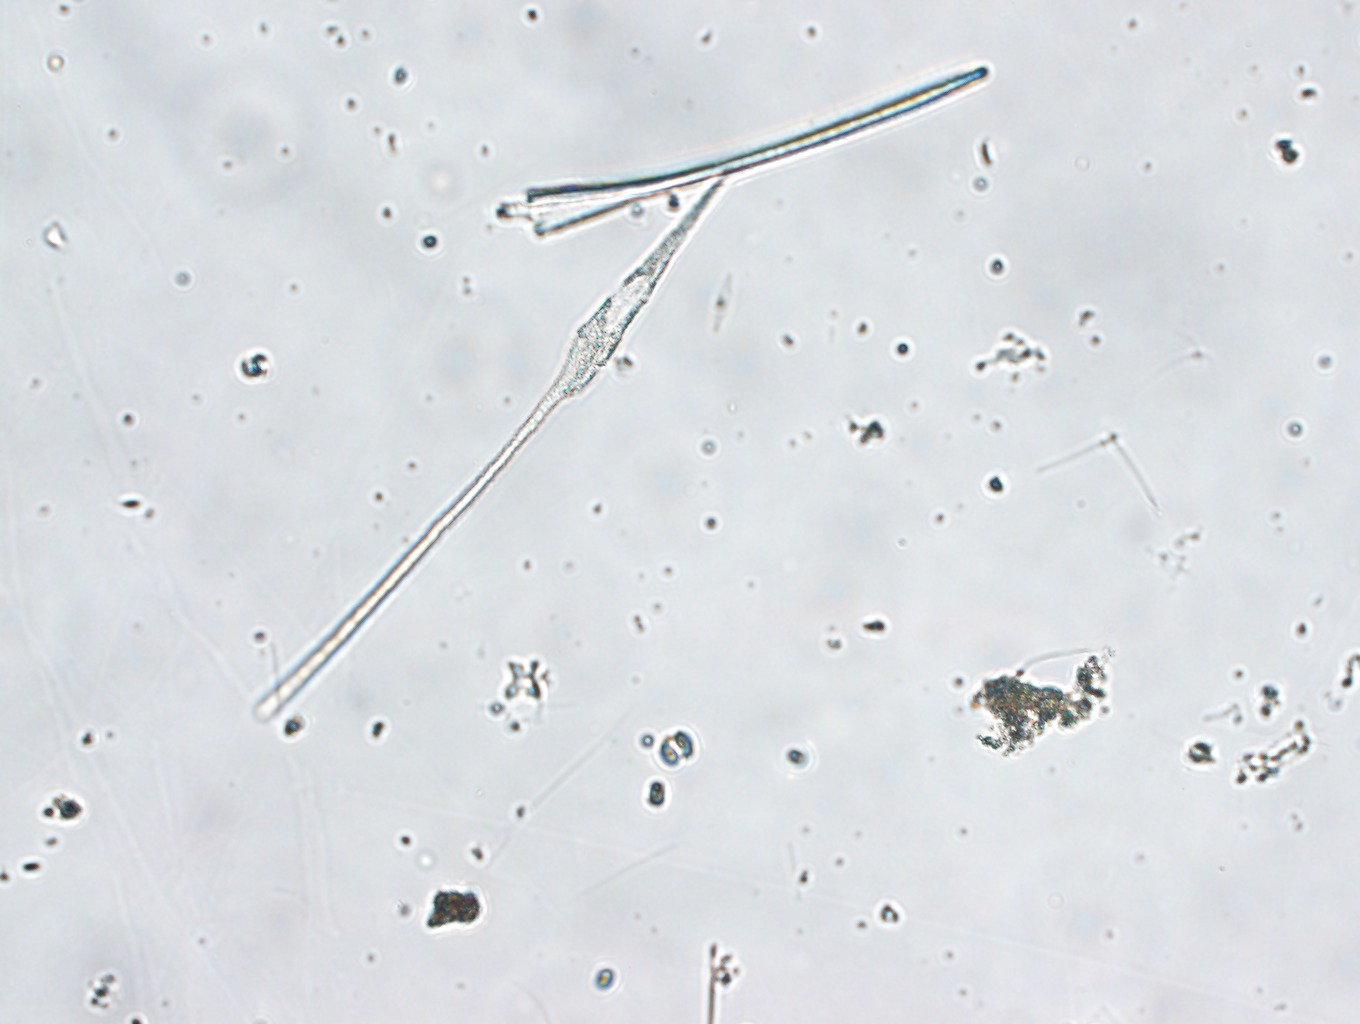ceratium fusus: (247, 180, 734, 723)
